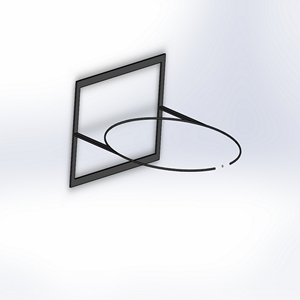circle: (65, 51, 241, 189)
